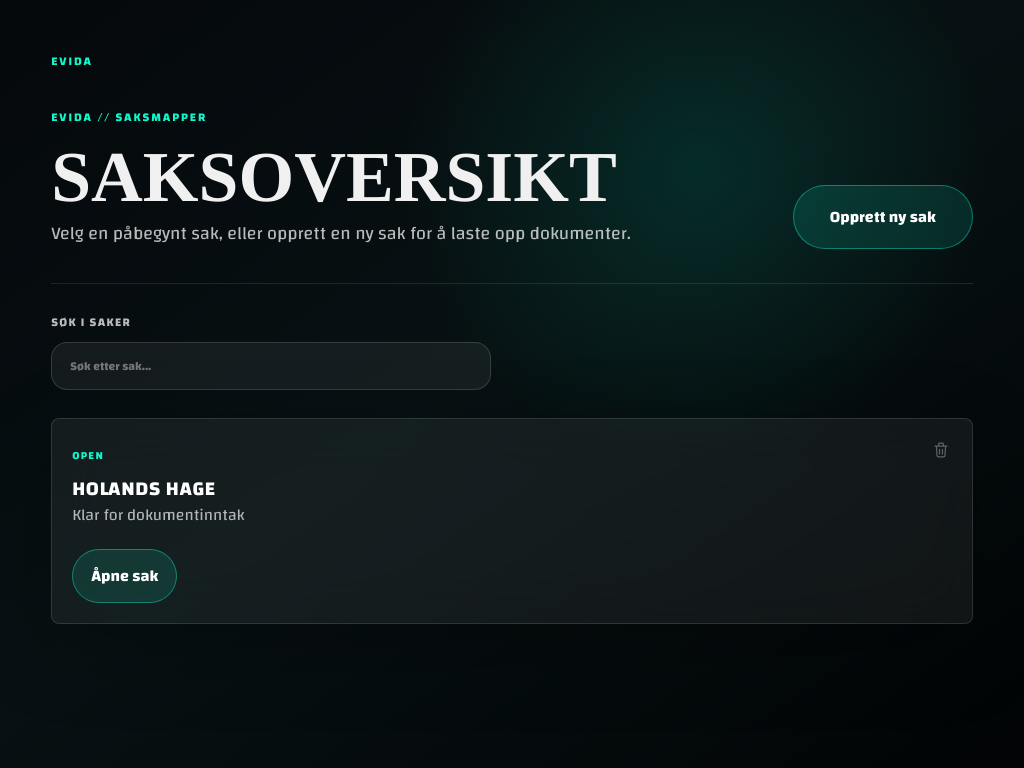
Scenario: StartupGateway case cards › renders a discreet trash action and opens the non-destructive confirmation
Check: the heading "Holands Hage" is shown, box [72,471,216,508]
Click the button named "Flytt Holands Hage til papirkurv". click: (941, 450)
box: [924,433,958,467]
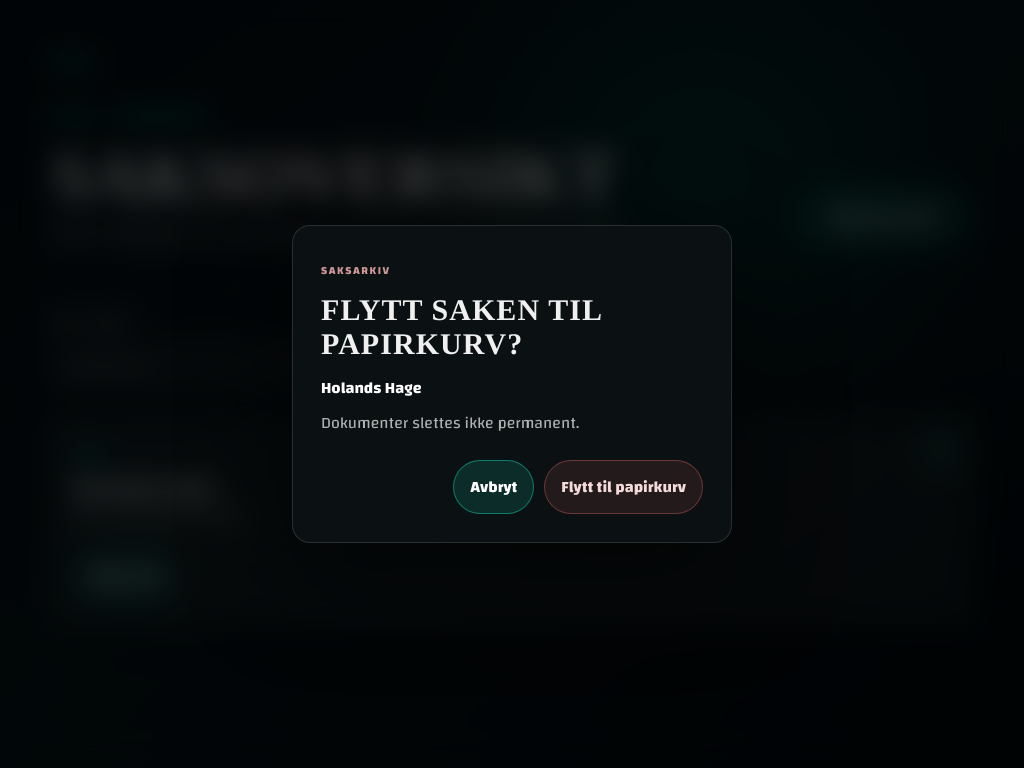
Check: the dialog "Flytt saken til papirkurv?" is shown, box [292,225,732,543]
Check: the text "Dokumenter slettes ikke permanent." is shown, box [321,408,580,438]
